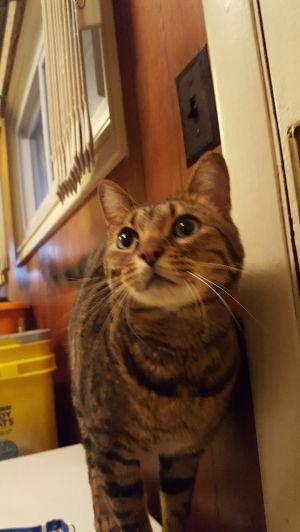bengal: (62, 138, 257, 321)
